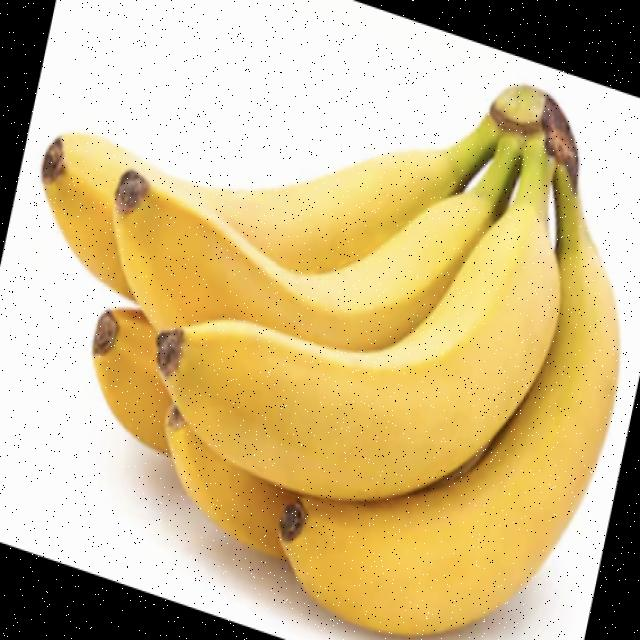god quality banana: (41, 86, 619, 636)
